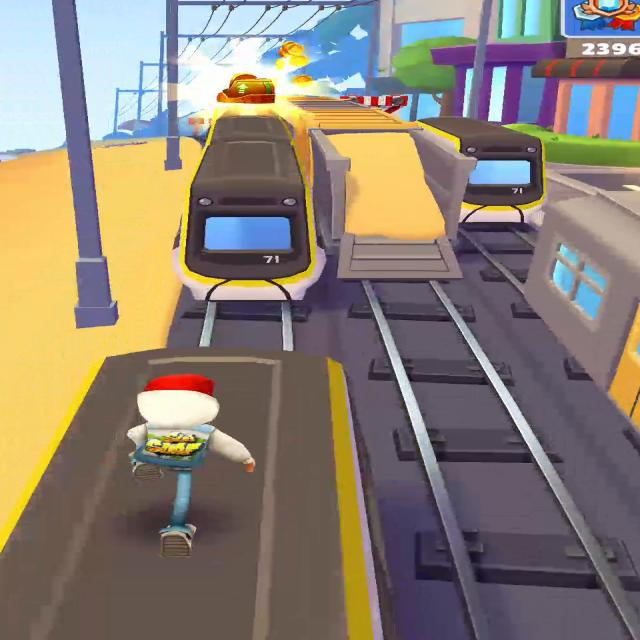climber: (331, 133, 445, 279)
train: (174, 114, 325, 303), (413, 116, 546, 224)
